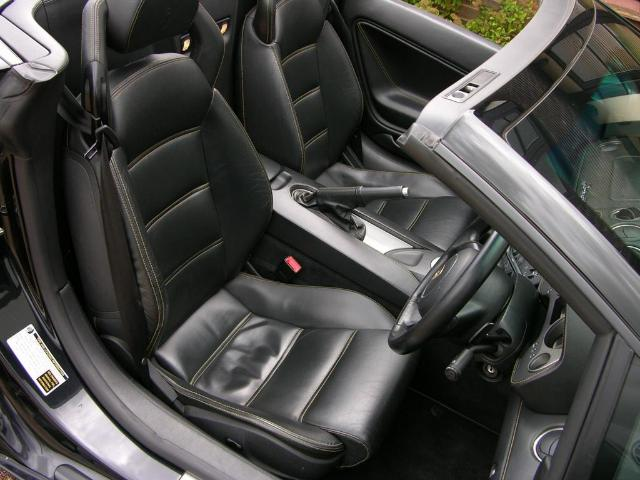Seatbelt: (54, 79, 150, 387)
